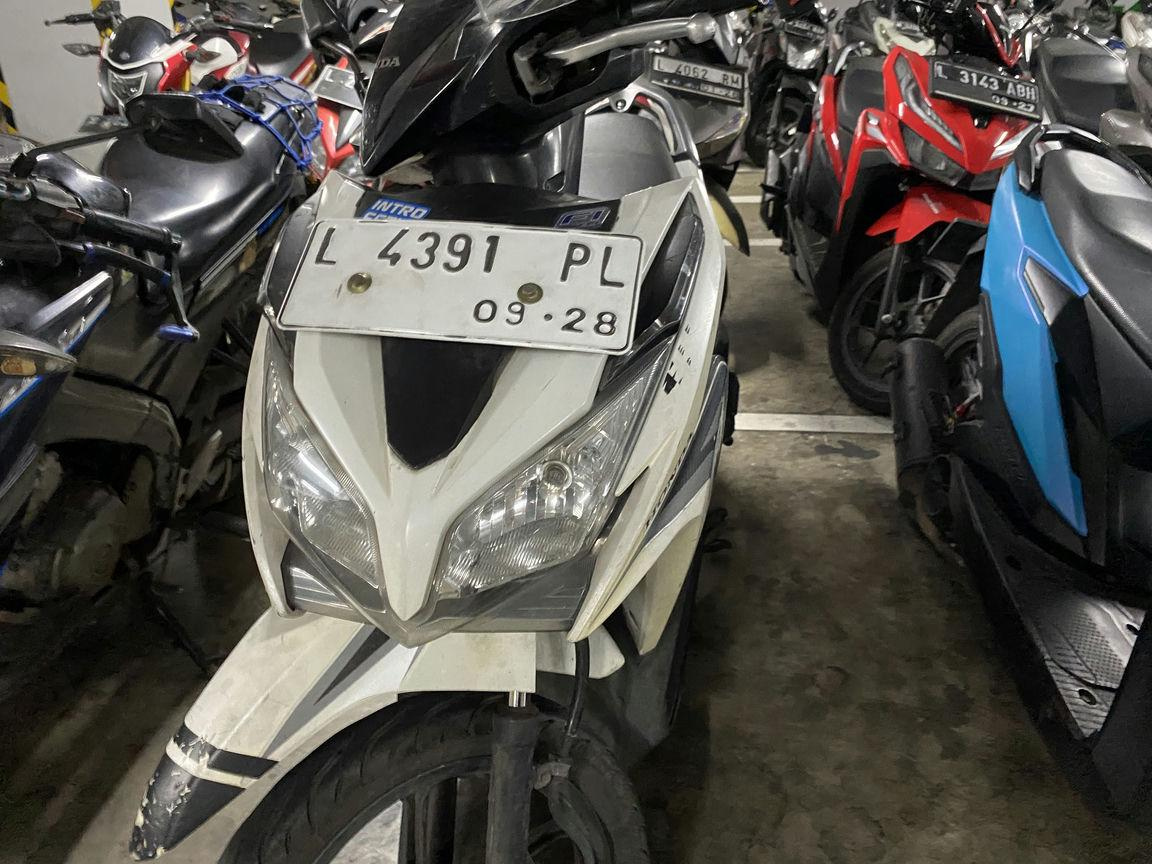plat: (277, 218, 641, 353), (929, 58, 1042, 119), (650, 54, 745, 106)
